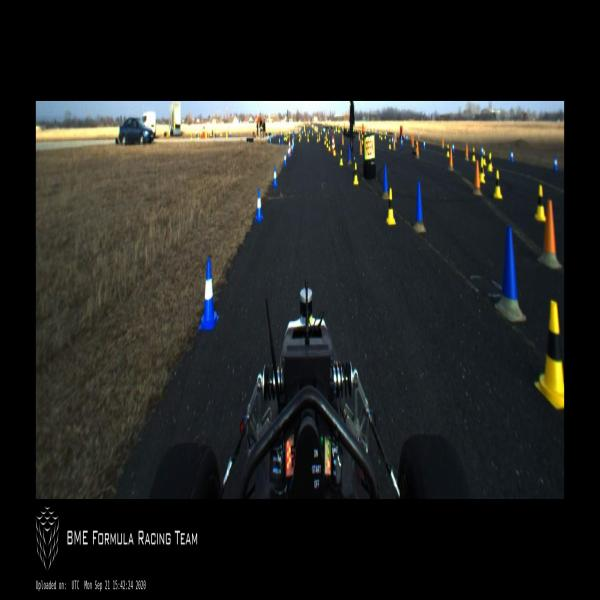blue_cone: (198, 258, 220, 330), (254, 189, 264, 222), (552, 152, 558, 174), (272, 166, 278, 186), (510, 150, 514, 163), (480, 144, 484, 157), (452, 141, 455, 154), (287, 147, 290, 159), (284, 152, 286, 167), (400, 138, 403, 148), (423, 138, 425, 150)
large_orange_cone: (288, 138, 292, 157), (332, 135, 334, 153)
yellow_cone: (536, 300, 564, 408), (534, 183, 546, 222), (385, 187, 396, 225), (494, 170, 502, 199), (480, 162, 486, 184), (488, 152, 494, 172), (354, 161, 358, 184), (472, 147, 476, 162), (340, 150, 343, 165), (446, 144, 449, 158), (388, 137, 391, 150), (484, 149, 486, 165), (316, 133, 319, 143), (334, 144, 336, 156), (328, 140, 330, 151), (326, 138, 328, 148), (324, 136, 326, 145), (307, 134, 309, 143)
